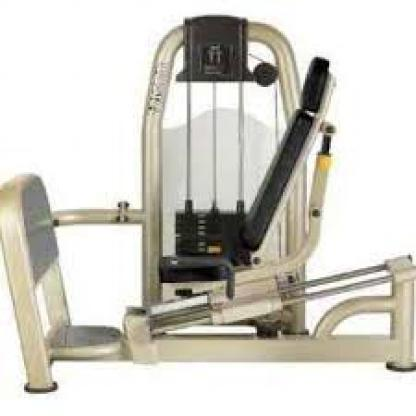leg press: (0, 14, 416, 398)
